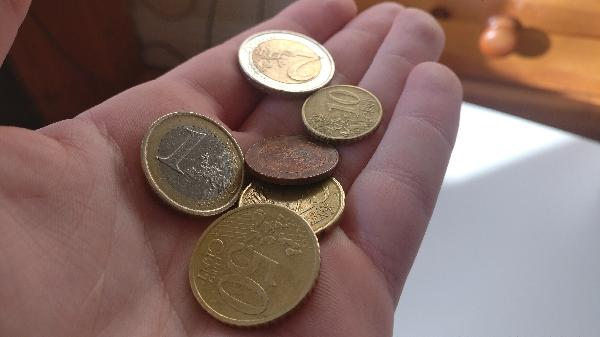Fifty Cent: (193, 203, 320, 324)
Five Cent: (245, 131, 341, 186)
One Euro: (142, 111, 247, 215)
Ten Cent: (305, 85, 384, 148)
Twenty Cent: (240, 173, 349, 244)
Two Euro: (238, 31, 334, 98)
